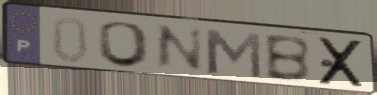0: (48, 15, 92, 66)
B: (261, 34, 313, 84)
M: (201, 26, 265, 81)
N: (153, 23, 206, 74)
O: (95, 20, 154, 70)
X: (316, 36, 369, 90)
